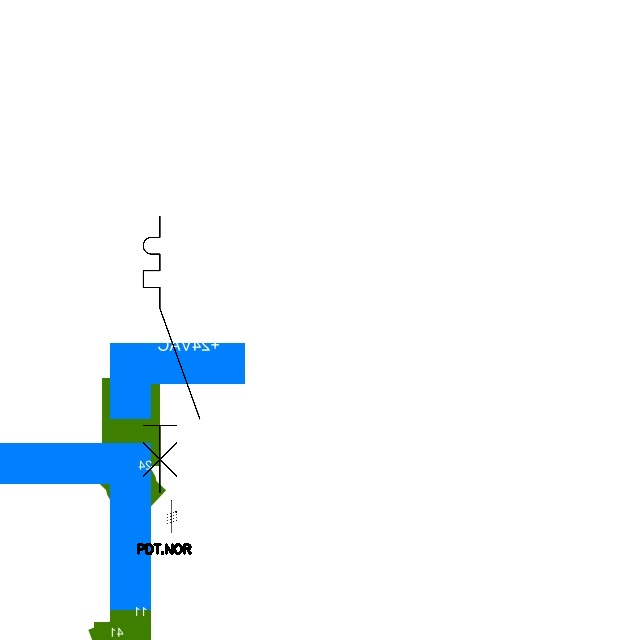interruptor_termomagnetico: (136, 209, 207, 500)
